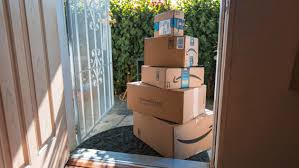package: (131, 109, 217, 160), (127, 80, 211, 122), (144, 35, 200, 68), (141, 63, 207, 89), (152, 10, 185, 38)
